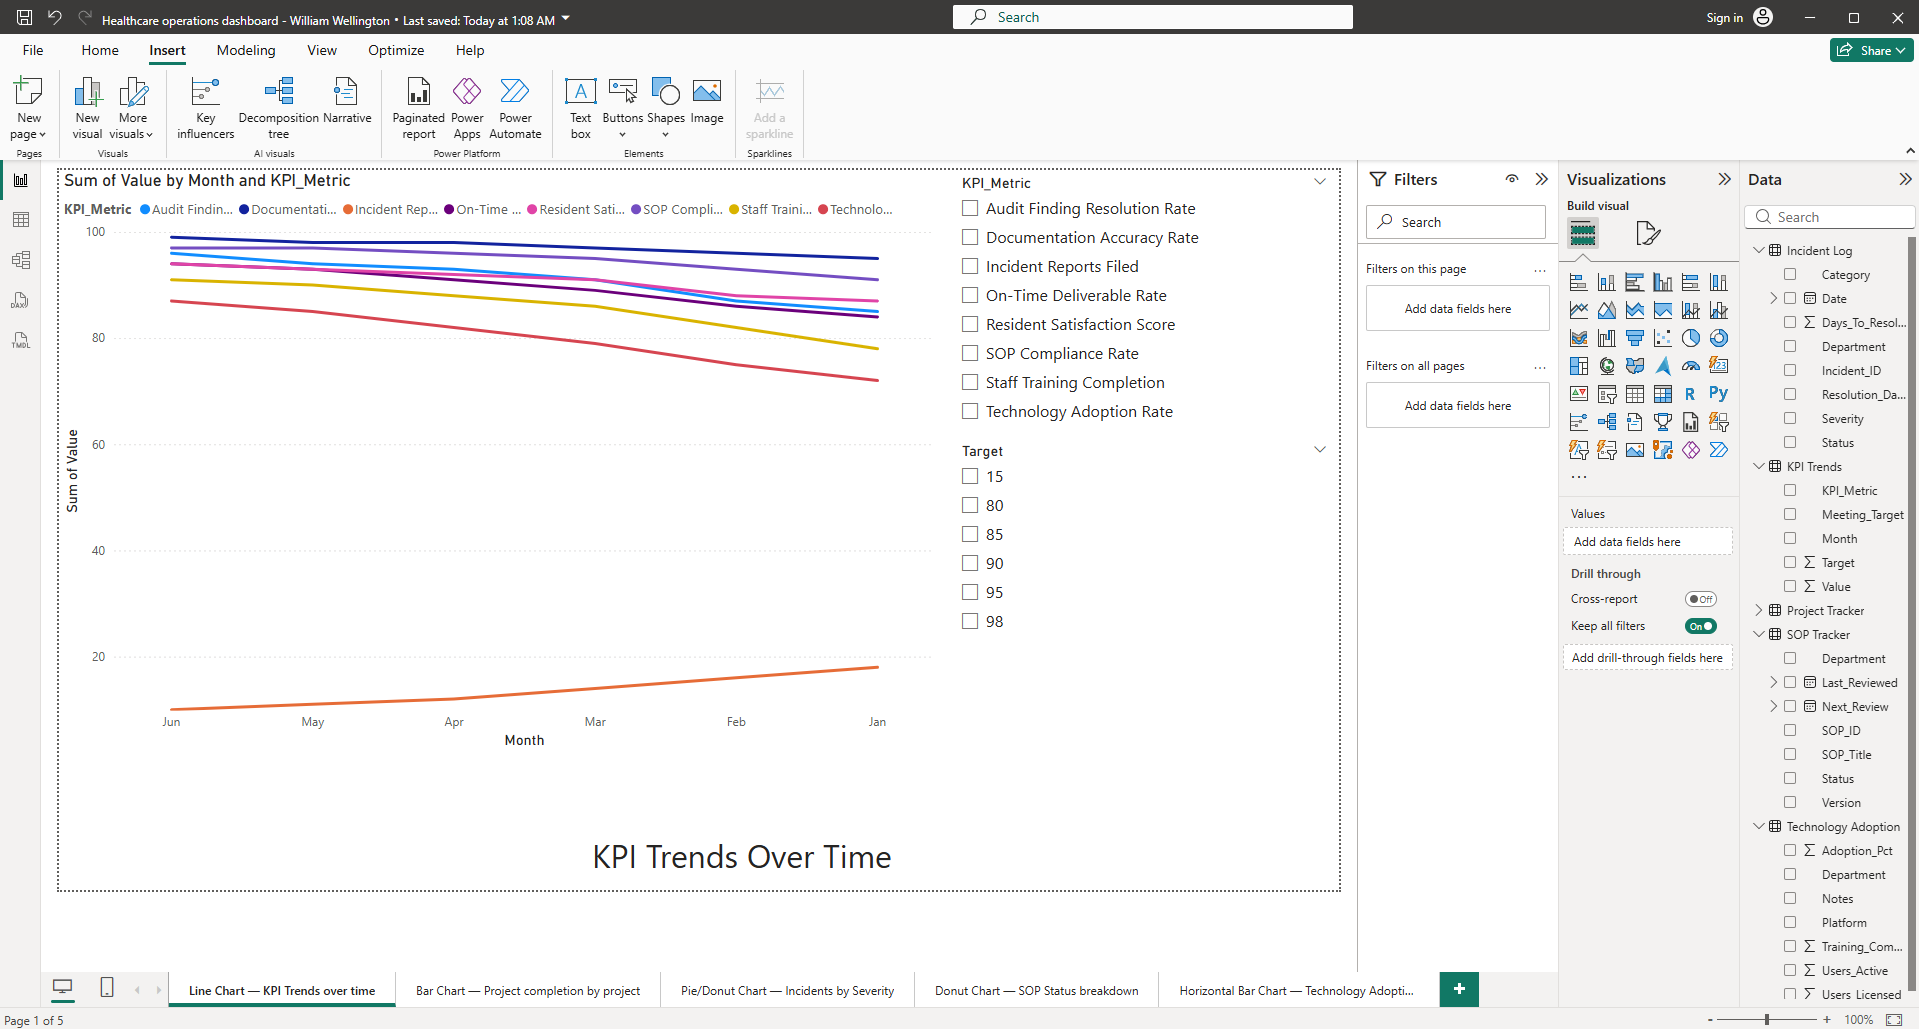

The dashboard page shown, as its layout file describes it:
{"tool":"powerbi","page":{"name":"Line Chart — KPI Trends over time","canvas":[1280,720],"ordinal":0},"visuals":[{"type":"lineChart","fields":{"Category":["KPI Trends.Month"],"Y":["Sum(KPI Trends.Value)"],"Series":["KPI Trends.KPI_Metric"]},"box":[0,0,880.2,582.6],"z":0},{"type":"textbox","box":[528.1,657.5,319,53.5],"z":1000},{"type":"slicer","fields":{"Values":["KPI Trends.KPI_Metric"]},"box":[890,0,390,268.4],"z":1001},{"type":"slicer","fields":{"Values":["KPI Trends.Target"]},"box":[890,268,390,315],"z":1002}]}

Visuals, with their boxes on the page's 1280x720 design canvas (x1, y1, x2, y2). These are canvas units, not pixel positions in the 1919x1029 screenshot, which may show the page scaled, cropped or inside an application window:
lineChart - KPI Trends.Month x Sum(KPI Trends.Value): {"left": 0, "top": 0, "right": 880, "bottom": 583}
textbox: {"left": 528, "top": 658, "right": 847, "bottom": 711}
slicer - KPI Trends.KPI_Metric: {"left": 890, "top": 0, "right": 1280, "bottom": 268}
slicer - KPI Trends.Target: {"left": 890, "top": 268, "right": 1280, "bottom": 583}
